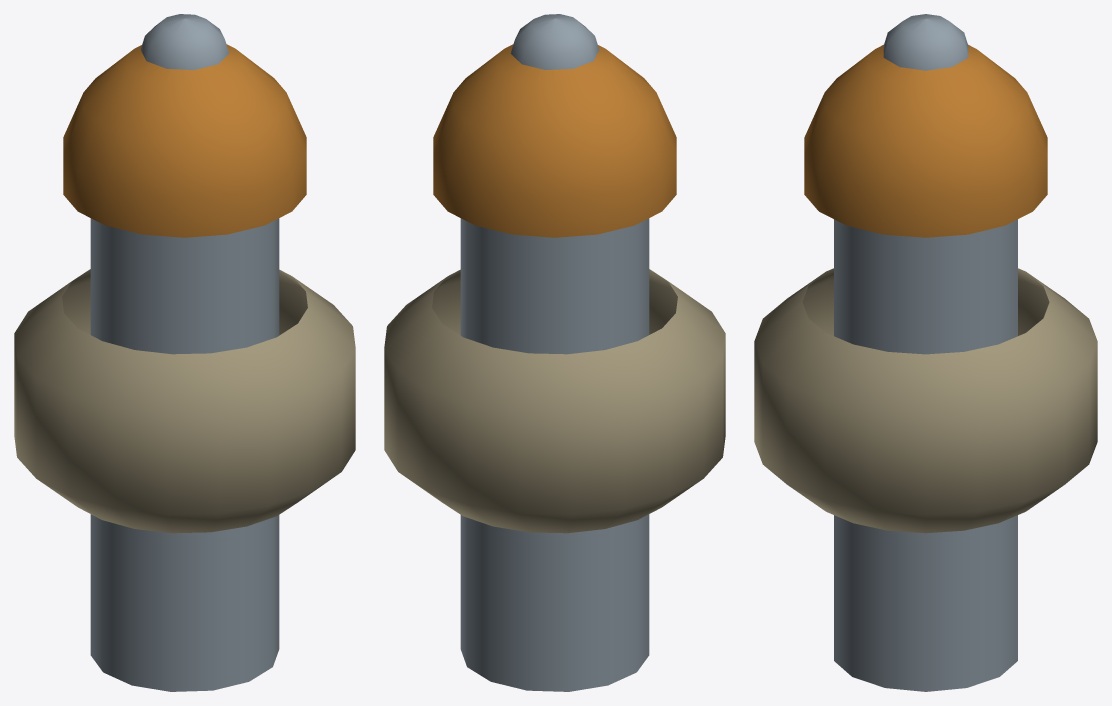
Rendered from post.dae.
The picture shows the model from 3 angles, left to right: view 1: azimuth 30°, elevation 25°; view 2: azimuth 150°, elevation 25°; view 3: azimuth 270°, elevation 25°; orthographic projection.
Parts seen in each view (by area): view 1: rubber, metal, accent; view 2: rubber, metal, accent; view 3: rubber, metal, accent.
Boxes of the visible parts, x1,y1,x2,y2 form: rubber: [14, 269, 355, 533]; metal: [90, 14, 279, 691]; accent: [63, 44, 306, 237]; rubber: [384, 269, 725, 533]; metal: [460, 14, 649, 691]; accent: [433, 44, 676, 237]; rubber: [754, 268, 1097, 533]; metal: [834, 14, 1017, 691]; accent: [804, 44, 1047, 237].
Size of the model in its own units: 2 by 4.07 by 2.
